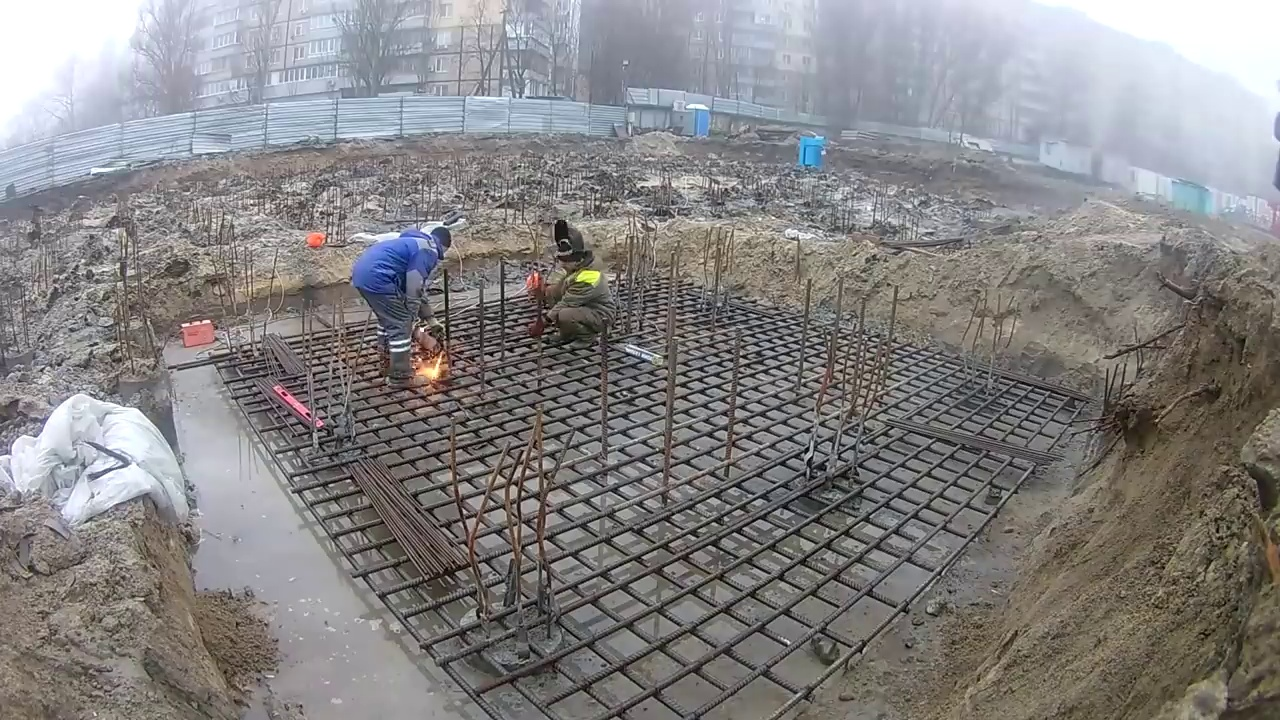helmet: (526, 270, 544, 299), (303, 230, 326, 249)
helmet-off: (548, 221, 591, 275), (419, 224, 454, 265)
person: (353, 224, 453, 387), (524, 220, 616, 349)
